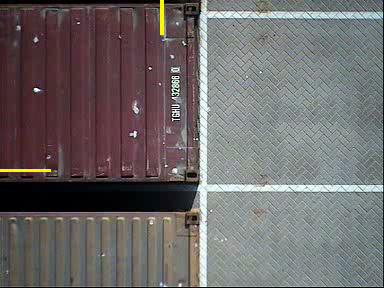groundmarker_2: (197, 168, 226, 209), (199, 1, 228, 40)
